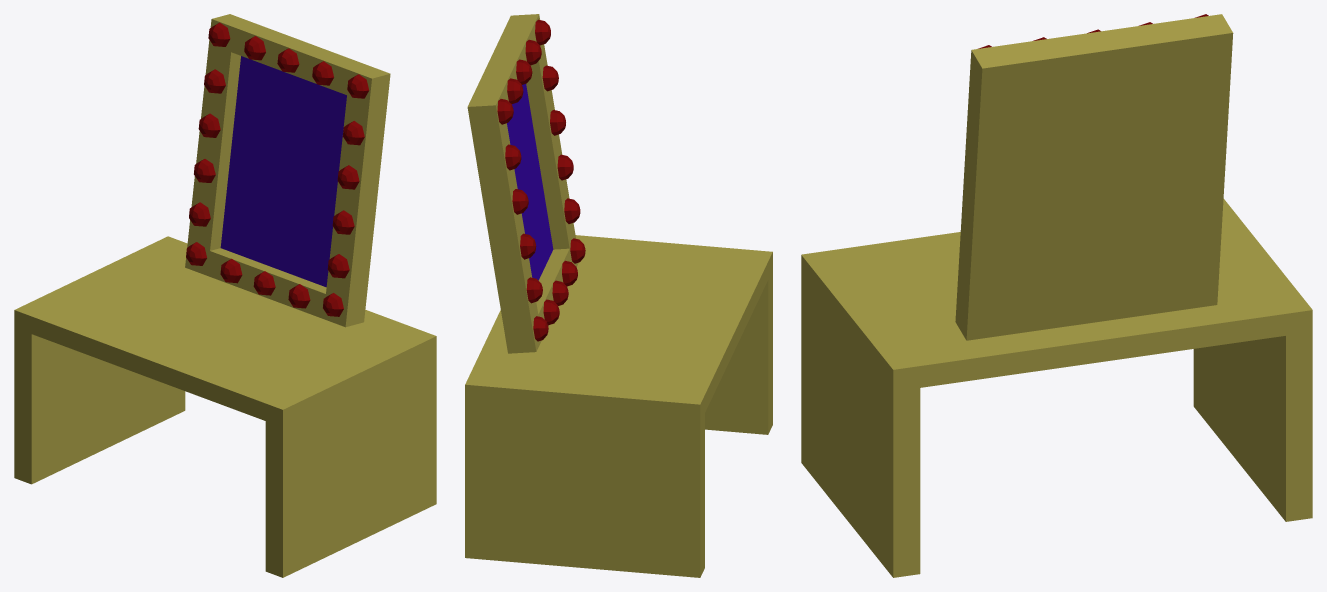
The model's file is Table-Backstage.fbx.
The picture shows the model from 3 angles, left to right: view 1: azimuth 30°, elevation 25°; view 2: azimuth 150°, elevation 25°; view 3: azimuth 270°, elevation 25°; orthographic projection. The views are drawn at different scales.
Parts seen in each view (by area): view 1: pCube29; view 2: pCube29; view 3: pCube29.
Boxes of the visible parts, x1,y1,x2,y2 form: pCube29: (14,14,436,577); pCube29: (465,14,772,577); pCube29: (801,14,1312,577).
Size of the model in its own units: 2.76 by 3.73 by 3.4.
